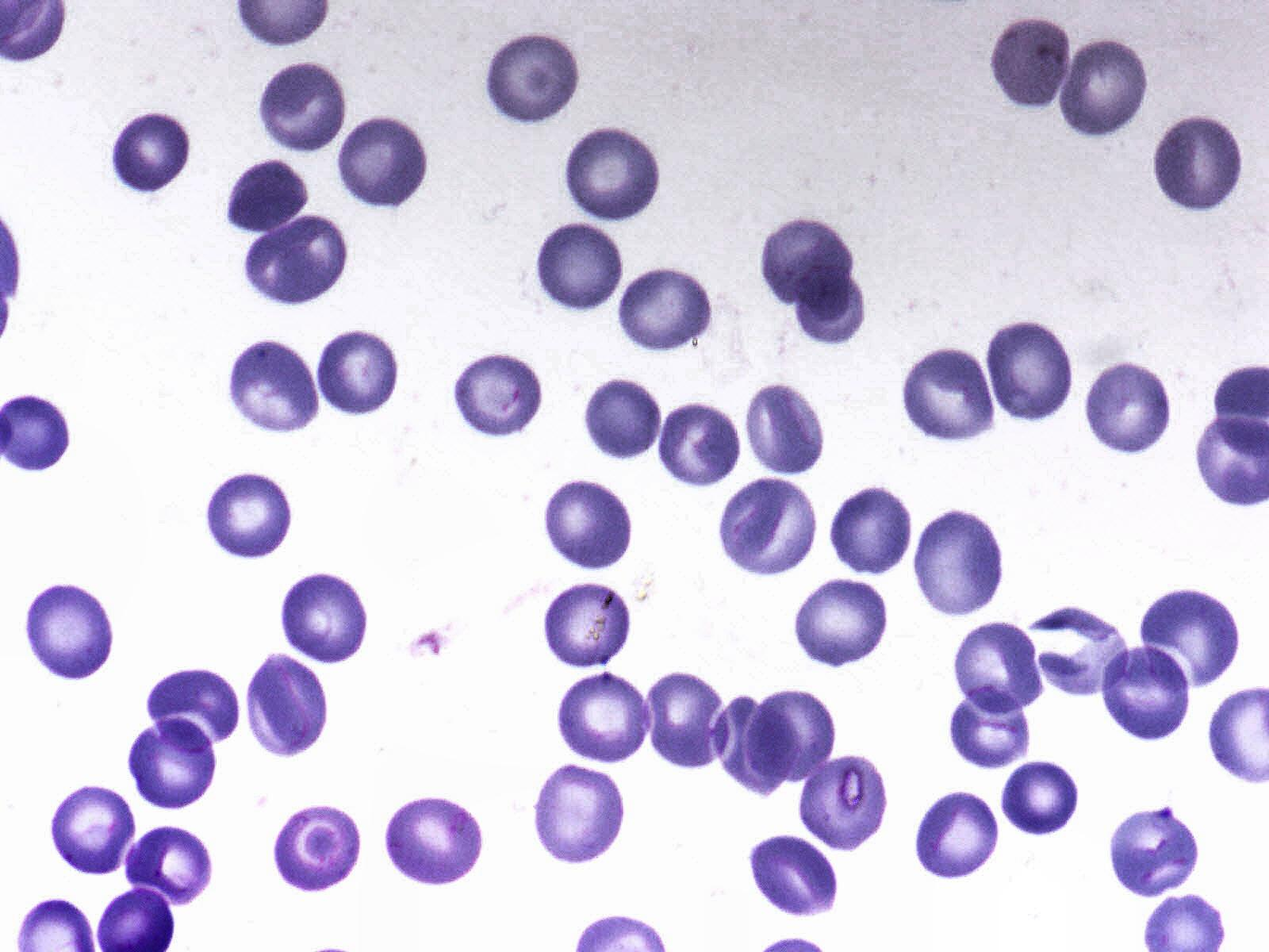Uninfected: (241, 209, 350, 311), (562, 120, 663, 228), (792, 749, 896, 851), (716, 475, 821, 576), (380, 793, 487, 892), (1140, 585, 1244, 686), (739, 685, 840, 788), (903, 341, 1002, 446), (531, 760, 627, 868), (915, 505, 1005, 620), (25, 578, 118, 686), (1148, 111, 1244, 215), (555, 668, 652, 770), (481, 31, 584, 127), (1098, 642, 1194, 745), (1057, 33, 1146, 143), (987, 6, 1075, 117), (228, 336, 323, 438), (335, 110, 431, 210), (985, 317, 1073, 426), (953, 616, 1046, 719), (259, 56, 351, 160), (141, 661, 243, 754), (707, 697, 799, 800), (542, 578, 639, 675), (795, 574, 891, 672), (617, 263, 716, 358), (1106, 806, 1204, 901), (122, 715, 220, 810), (1082, 357, 1174, 458), (278, 570, 374, 666), (544, 474, 635, 575), (644, 666, 729, 772), (272, 800, 366, 895), (47, 782, 140, 878), (535, 220, 627, 317), (1033, 603, 1129, 693), (759, 217, 855, 306), (249, 651, 333, 752), (742, 375, 824, 478), (914, 789, 1002, 884), (454, 351, 546, 439), (205, 472, 295, 561), (831, 482, 914, 578), (748, 835, 842, 918), (110, 108, 194, 198), (949, 685, 1033, 774), (583, 374, 666, 464), (316, 328, 400, 415), (226, 155, 316, 236), (650, 405, 741, 485), (127, 825, 216, 904), (794, 267, 867, 349), (1002, 760, 1080, 836)
